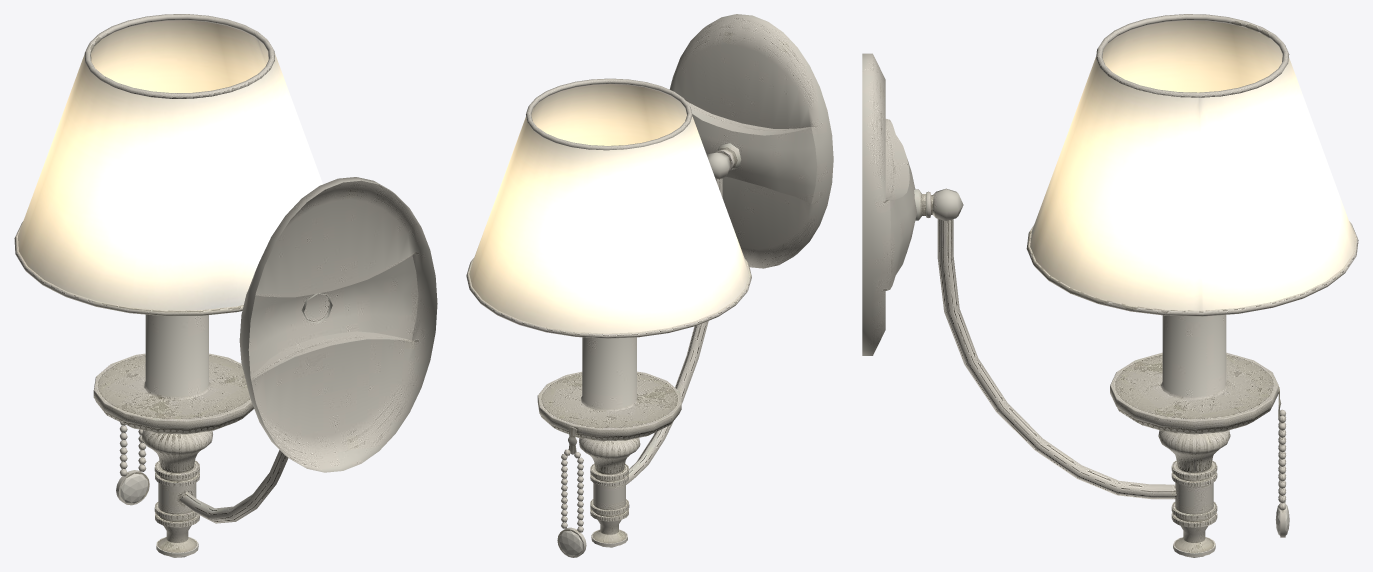
Rendered from AntiqWallLight.fbx.
3 renders of one model, left to right at view 1: azimuth 30°, elevation 25°; view 2: azimuth 150°, elevation 25°; view 3: azimuth 270°, elevation 25°, orthographic. The views are drawn at different scales.
Visible parts, largest first — view 1: WallLight; view 2: WallLight; view 3: WallLight.
Part boxes in pixels (bbox=[...]): WallLight: bbox=[14, 14, 437, 557]; WallLight: bbox=[466, 14, 833, 557]; WallLight: bbox=[862, 14, 1358, 557].
Bounding box in the file's own units: 45.76 × 76.38 × 68.42.
